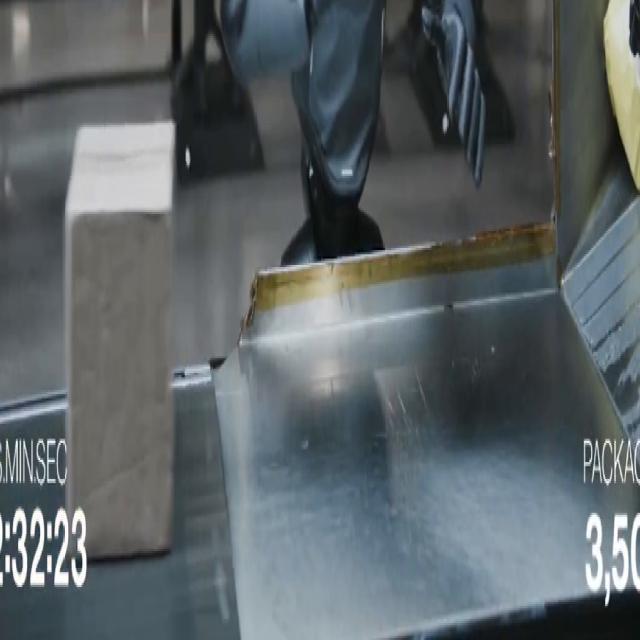package: (64, 125, 174, 557), (605, 0, 639, 190)
